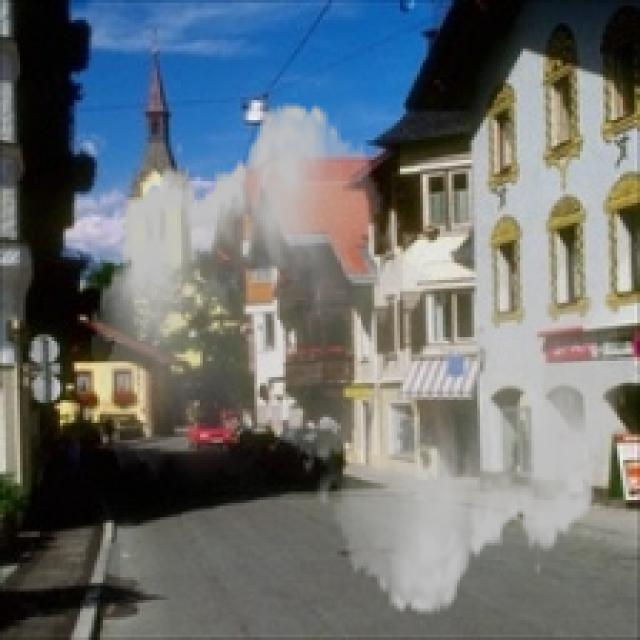Smoke: (91, 86, 626, 632)
